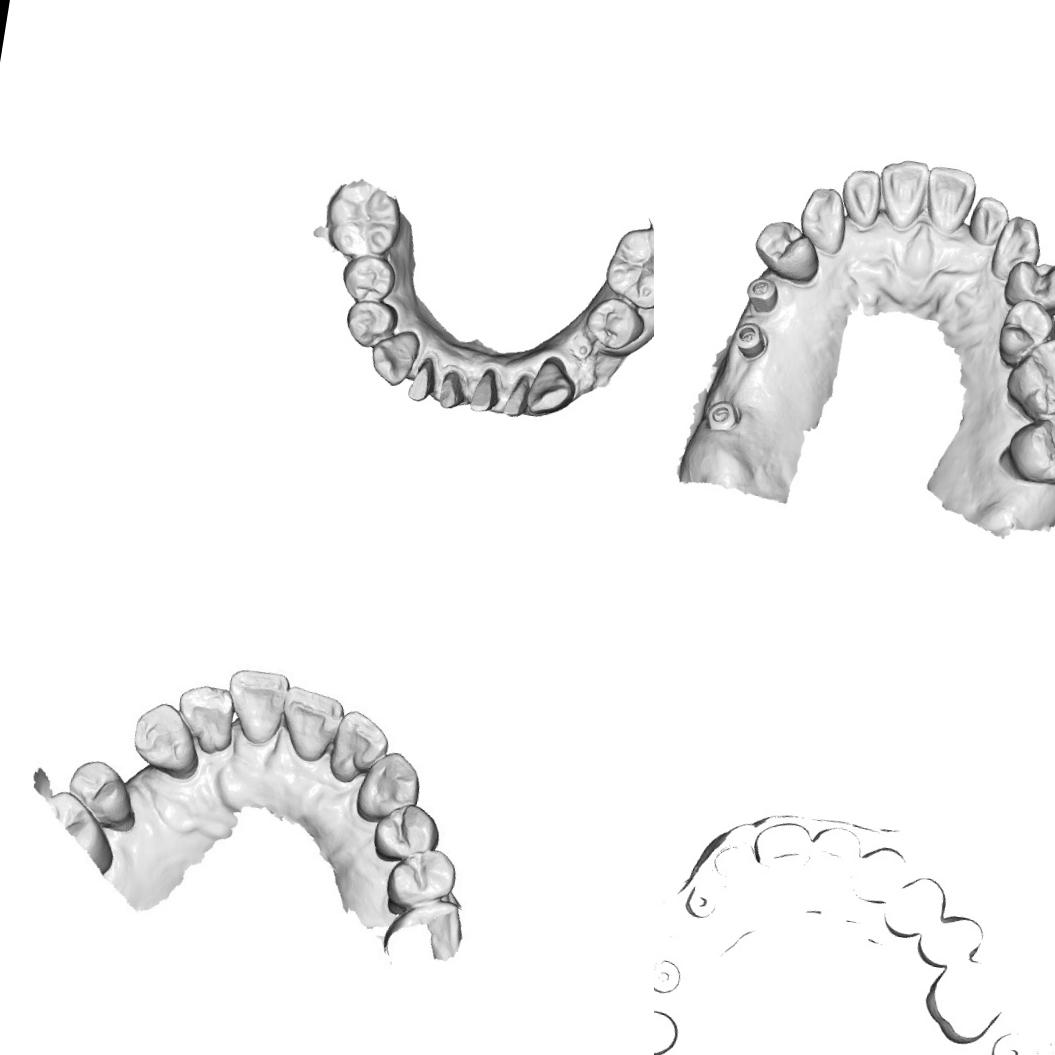canine: (124, 698, 208, 787), (351, 746, 426, 831), (986, 211, 1047, 287), (795, 182, 852, 256), (524, 354, 581, 420), (366, 326, 422, 390)
crown: (467, 366, 503, 415), (404, 354, 438, 404), (499, 374, 530, 419), (436, 370, 465, 411)
implant: (729, 320, 771, 364), (743, 274, 783, 316), (701, 397, 744, 436)
incisor: (218, 662, 296, 750), (322, 706, 391, 792), (276, 686, 348, 767), (174, 680, 238, 758), (872, 155, 934, 234), (919, 162, 981, 238), (835, 164, 886, 232), (965, 192, 1014, 250)
molar: (318, 174, 407, 263), (999, 328, 1055, 428), (601, 221, 654, 316), (1000, 403, 1055, 493)
premolar: (57, 752, 150, 842), (380, 841, 466, 925), (748, 216, 826, 288), (370, 796, 448, 868), (992, 294, 1055, 373), (581, 293, 649, 354), (999, 255, 1055, 318), (342, 296, 401, 352), (338, 252, 399, 306)
